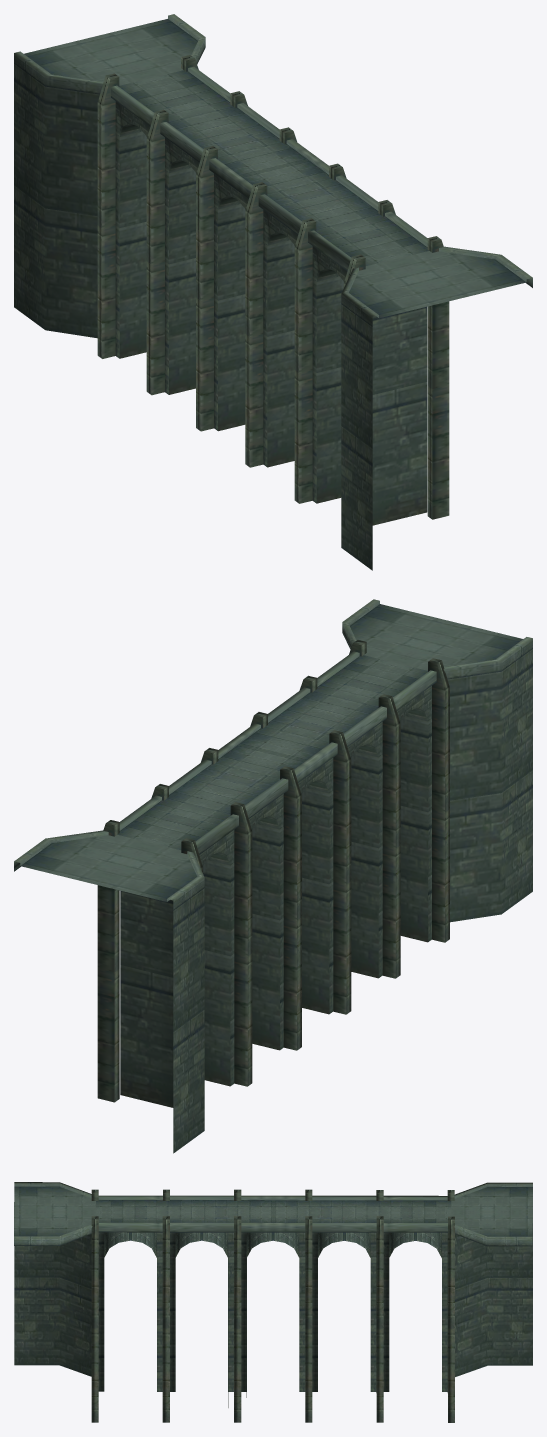
The model's file is bridge_B.fbx.
3 views of the same model, one above another, from view 1: azimuth 30°, elevation 25°; view 2: azimuth 150°, elevation 25°; view 3: azimuth 270°, elevation 25° (orthographic). The views are drawn at different scales.
Visible parts, largest first — view 1: bridge_B; view 2: bridge_B; view 3: bridge_B.
Boxes of the visible parts, x1,y1,x2,y2 form: bridge_B: (14,14,532,570); bridge_B: (14,599,532,1153); bridge_B: (14,1182,532,1422).
Bounding box in the file's own units: 11.32 × 18.66 × 43.81.
